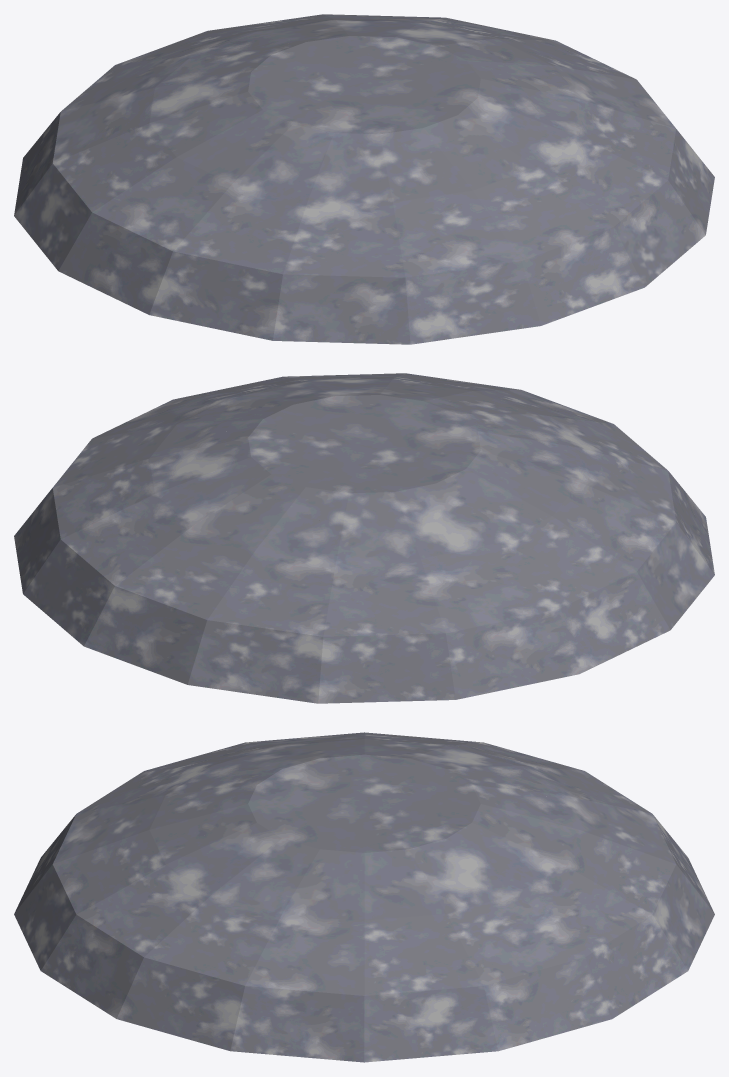
The model's file is recovered_map_m53.glb.
3 renders of one model, top to bottom at view 1: azimuth 30°, elevation 25°; view 2: azimuth 150°, elevation 25°; view 3: azimuth 270°, elevation 25°, orthographic.
Visible parts, largest first — view 1: S_sky01; view 2: S_sky01; view 3: S_sky01.
Boxes of the visible parts, x1=… form: S_sky01: x1=14, y1=14, x2=714, y2=344; S_sky01: x1=14, y1=373, x2=714, y2=703; S_sky01: x1=14, y1=732, x2=714, y2=1062.
Size of what is drawn, in the model's own units: 1490 by 259 by 1490.
Materials: 97 (97 with a texture image).
